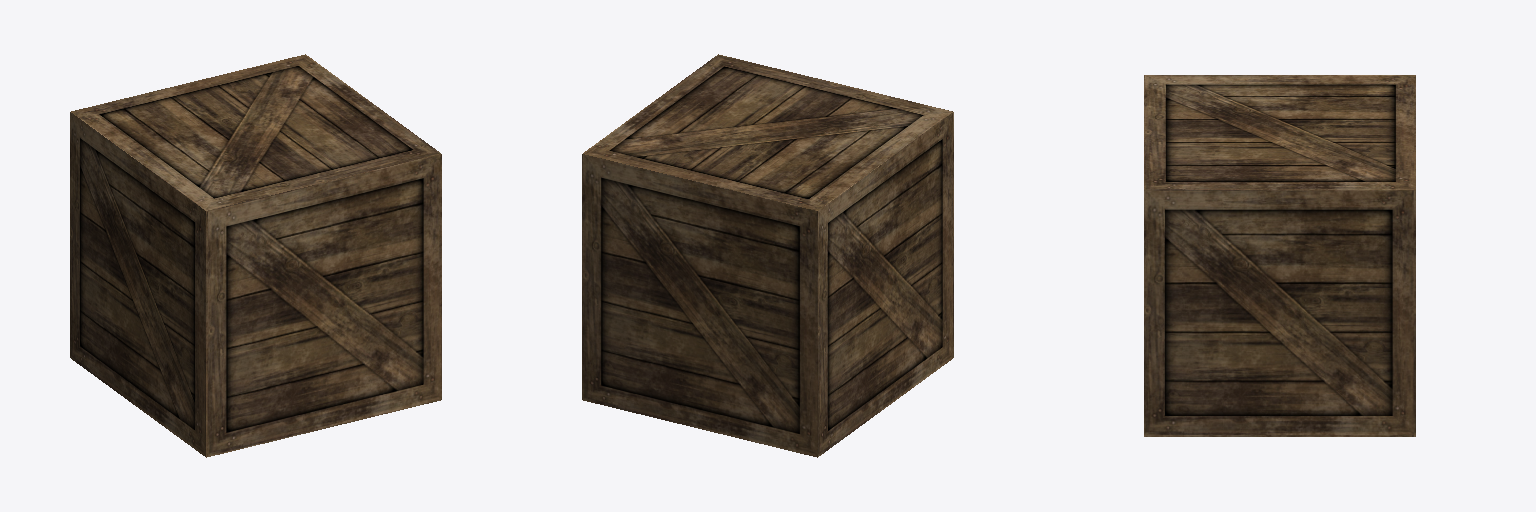
The picture shows the model from 3 angles: view 1: azimuth 30°, elevation 25°; view 2: azimuth 150°, elevation 25°; view 3: azimuth 270°, elevation 25°; orthographic projection.
Visible parts, largest first — view 1: Cube; view 2: Cube; view 3: Cube.
Part boxes in pixels (x1,y1,x2,y2): Cube: (70,54,441,457); Cube: (582,54,953,457); Cube: (1144,75,1415,436).
Bounding box in the file's own units: 2 × 2 × 2.
1 materials, 1 textured.